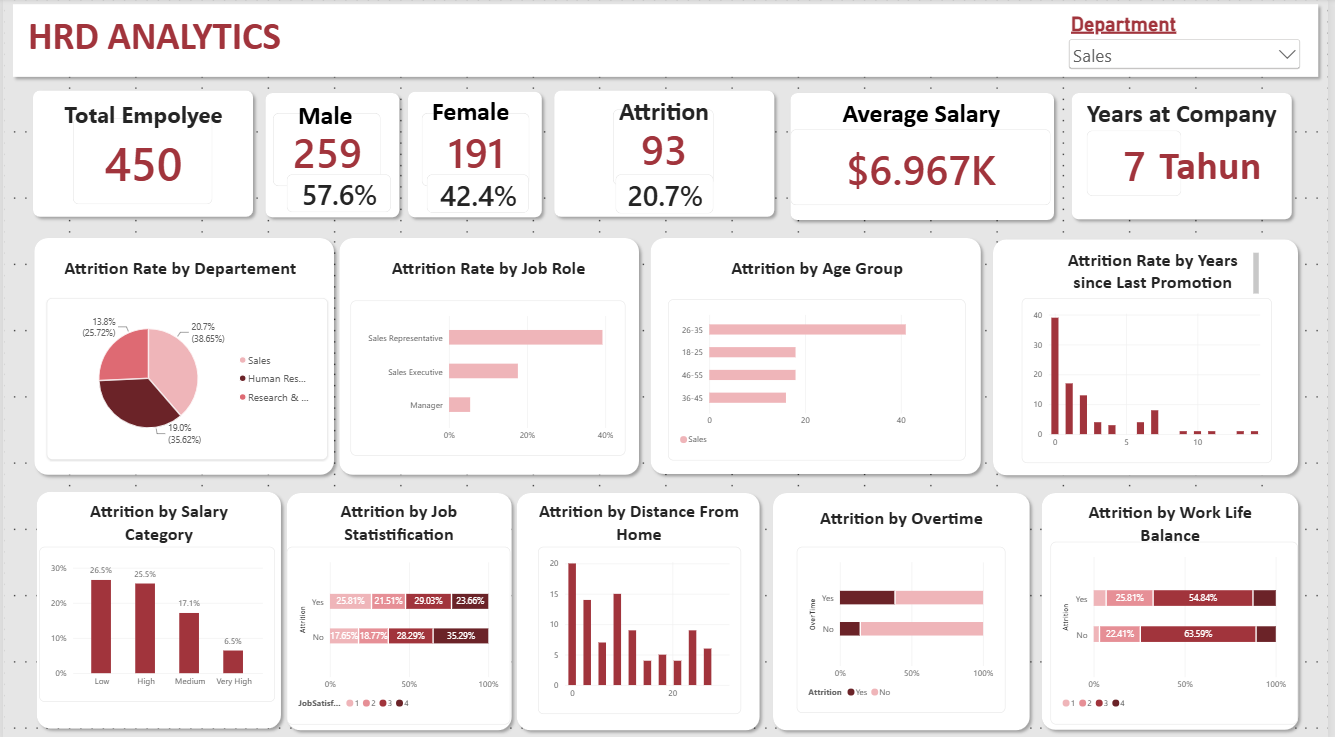

The dashboard page shown, as its layout file describes it:
{"tool":"powerbi","page":{"name":"Overview","canvas":[1920,1080],"ordinal":0},"visuals":[{"type":"shape","box":[1426,340,460,360],"z":0},{"type":"shape","box":[477.4,337.9,452.4,361.2],"z":1000},{"type":"shape","box":[5.4,0,1909.1,123.2],"z":2000},{"type":"textbox","box":[36.2,19.9,402.1,83.3],"z":3000},{"type":"textbox","box":[5.4,201.1,288,150.3],"z":4000},{"type":"shape","box":[35.8,337.9,452.4,361.2],"z":5000},{"type":"shape","box":[372,128,212,198],"z":6000},{"type":"shape","box":[790,125,336.9,201.1],"z":7000},{"type":"shape","box":[1132,128,400,202],"z":8000},{"type":"shape","box":[1540,128,336.9,201.1],"z":9000},{"type":"shape","box":[35,125,336.9,201.1],"z":10000},{"type":"slicer","fields":{"Values":["HR_Analytics.Department"]},"box":[1540,20,345,86.7],"z":11000},{"type":"shape","box":[930,338.3,496.7,360],"z":12000},{"type":"shape","box":[39.3,706.3,371.9,361.2],"z":13000},{"type":"shape","box":[402,708,344,362],"z":14000},{"type":"cardVisual","fields":{"Data":["All Measures.TotalEmp"]},"box":[102,174,202.5,125],"z":15000},{"type":"textbox","box":[83.8,146.2,240,55],"z":16000},{"type":"cardVisual","fields":{"Data":["All Measures.Male"]},"box":[392,166,156.7,106.7],"z":17000},{"type":"cardVisual","fields":{"Data":["All Measures.Attiration"]},"box":[884,162,146,110],"z":18000},{"type":"textbox","box":[790,142,336,54],"z":19000},{"type":"textbox","box":[428,146,91.4,50],"z":20000},{"type":"cardVisual","fields":{"Data":["All Measures.% Male"]},"box":[411.2,255.7,152,55.4],"z":21000},{"type":"shape","box":[578,126,212,200],"z":22000},{"type":"cardVisual","fields":{"Data":["All Measures.Female"]},"box":[606,166,156.7,106.7],"z":23000},{"type":"cardVisual","fields":{"Data":["All Measures.% Female"]},"box":[614,256,148,56],"z":24000},{"type":"textbox","box":[622,142,124,50],"z":25000},{"type":"cardVisual","fields":{"Data":["All Measures.% Attrition"]},"box":[887.5,255,142.5,57.5],"z":26000},{"type":"cardVisual","fields":{"Data":["All Measures.Average Salary"]},"box":[1142,190,377.5,110],"z":27000},{"type":"cardVisual","fields":{"Data":["All Measures.Average Tenure"]},"box":[1570,192,137.5,95],"z":28000},{"type":"textbox","box":[1676,206,172.5,75],"z":29000},{"type":"textbox","box":[1214,144,234,62],"z":30000},{"type":"textbox","box":[1570,144,300,46],"z":31000},{"type":"pieChart","fields":{"Category":["HR_Analytics.Department"],"Y":["All Measures.% Attrition"]},"box":[62.6,434.5,407.1,234.3],"z":32000},{"type":"barChart","fields":{"Category":["HR_Analytics.AgeGroup"],"Series":["HR_Analytics.Department"],"Y":["All Measures.Attiration"]},"box":[963.3,436.7,431.2,233.8],"z":33000},{"type":"barChart","fields":{"Category":["HR_Analytics.JobRole"],"Y":["All Measures.% Attrition"]},"box":[504.4,438.9,398.3,225],"z":34000},{"type":"clusteredColumnChart","fields":{"Category":["HR_Analytics.YearsAtCompany (bins)"],"Y":["All Measures.TotalEmp"]},"box":[1475.5,434.5,362.7,239.1],"z":35000},{"type":"clusteredColumnChart","fields":{"Category":["HR_Analytics.SalaryCategory"],"Y":["All Measures.% Attrition"]},"box":[52,796,341.2,225],"z":36000},{"type":"shape","box":[736,708,370,362],"z":37000},{"type":"clusteredColumnChart","fields":{"Category":["HR_Analytics.DistanceFromHome (bins)"],"Y":["All Measures.Attiration"]},"box":[775.6,795.6,294.4,242.2],"z":38000},{"type":"shape","box":[1106,708,390,362],"z":39000},{"type":"shape","box":[1496,708,389.8,361.2],"z":40000},{"type":"clusteredColumnChart","fields":{"Category":["HR_Analytics.Department"],"Series":["HR_Analytics.JobSatisfaction (bins)"],"Y":["All Measures.Attiration"]},"box":[424.4,795.6,300,240],"z":41000},{"type":"hundredPercentStackedBarChart","fields":{"Category":["HR_Analytics.OverTime"],"Series":["HR_Analytics.Attrition"],"Y":["All Measures.TotalEmp"]},"box":[1150,795.6,302.2,241.1],"z":42000},{"type":"clusteredColumnChart","fields":{"Category":["HR_Analytics.Department"],"Series":["HR_Analytics.WorkLifeBalance (bins)"],"Y":["All Measures.Attiration"]},"box":[1538,810,300,226],"z":43000},{"type":"textbox","box":[88.9,374.4,380,37.8],"z":44000},{"type":"textbox","box":[563.3,374.4,300,44.4],"z":45000},{"type":"textbox","box":[990,374.4,377.8,45.6],"z":46000},{"type":"textbox","box":[1520,365.6,300,62.2],"z":47000},{"type":"textbox","box":[75.6,726.7,300,68.9],"z":48000},{"type":"textbox","box":[424.4,726.7,300,68.9],"z":49000},{"type":"textbox","box":[1152.2,736.7,300,50],"z":50000},{"type":"textbox","box":[771.1,726.7,300,68.9],"z":51000},{"type":"textbox","box":[1541.1,727.8,300,68.9],"z":52000}]}

Visuals, with their boxes in screenshot pixels (x1, y1, x2, y2), scaled from the page's 1920x1080 canvas onto the 1335x737 screenshot:
shape: rect(992, 232, 1311, 478)
shape: rect(332, 231, 647, 477)
shape: rect(4, 0, 1331, 84)
textbox: rect(25, 14, 305, 70)
textbox: rect(4, 137, 204, 240)
shape: rect(25, 231, 339, 477)
shape: rect(259, 87, 406, 222)
shape: rect(549, 85, 784, 223)
shape: rect(787, 87, 1065, 225)
shape: rect(1071, 87, 1305, 225)
shape: rect(24, 85, 259, 223)
slicer - HR_Analytics.Department: rect(1071, 14, 1311, 73)
shape: rect(647, 231, 992, 477)
shape: rect(27, 482, 286, 728)
shape: rect(280, 483, 519, 730)
cardVisual - All Measures.TotalEmp: rect(71, 119, 212, 204)
textbox: rect(58, 100, 225, 137)
cardVisual - All Measures.Male: rect(273, 113, 382, 186)
cardVisual - All Measures.Attiration: rect(615, 111, 716, 186)
textbox: rect(549, 97, 783, 134)
textbox: rect(298, 100, 361, 134)
cardVisual - All Measures.% Male: rect(286, 174, 392, 212)
shape: rect(402, 86, 549, 222)
cardVisual - All Measures.Female: rect(421, 113, 530, 186)
cardVisual - All Measures.% Female: rect(427, 175, 530, 213)
textbox: rect(432, 97, 519, 131)
cardVisual - All Measures.% Attrition: rect(617, 174, 716, 213)
cardVisual - All Measures.Average Salary: rect(794, 130, 1057, 205)
cardVisual - All Measures.Average Tenure: rect(1092, 131, 1187, 196)
textbox: rect(1165, 141, 1285, 192)
textbox: rect(844, 98, 1007, 141)
textbox: rect(1092, 98, 1300, 130)
pieChart - HR_Analytics.Department x All Measures.% Attrition: rect(44, 297, 327, 456)
barChart - HR_Analytics.AgeGroup x HR_Analytics.Department: rect(670, 298, 970, 458)
barChart - HR_Analytics.JobRole x All Measures.% Attrition: rect(351, 300, 628, 453)
clusteredColumnChart - HR_Analytics.YearsAtCompany (bins) x All Measures.TotalEmp: rect(1026, 297, 1278, 460)
clusteredColumnChart - HR_Analytics.SalaryCategory x All Measures.% Attrition: rect(36, 543, 273, 697)
shape: rect(512, 483, 769, 730)
clusteredColumnChart - HR_Analytics.DistanceFromHome (bins) x All Measures.Attiration: rect(539, 543, 744, 708)
shape: rect(769, 483, 1040, 730)
shape: rect(1040, 483, 1311, 730)
clusteredColumnChart - HR_Analytics.Department x HR_Analytics.JobSatisfaction (bins): rect(295, 543, 504, 707)
hundredPercentStackedBarChart - HR_Analytics.OverTime x HR_Analytics.Attrition: rect(800, 543, 1010, 707)
clusteredColumnChart - HR_Analytics.Department x HR_Analytics.WorkLifeBalance (bins): rect(1069, 553, 1278, 707)
textbox: rect(62, 255, 326, 281)
textbox: rect(392, 255, 600, 286)
textbox: rect(688, 255, 951, 287)
textbox: rect(1057, 249, 1265, 292)
textbox: rect(53, 496, 261, 543)
textbox: rect(295, 496, 504, 543)
textbox: rect(801, 503, 1010, 537)
textbox: rect(536, 496, 745, 543)
textbox: rect(1072, 497, 1280, 544)
